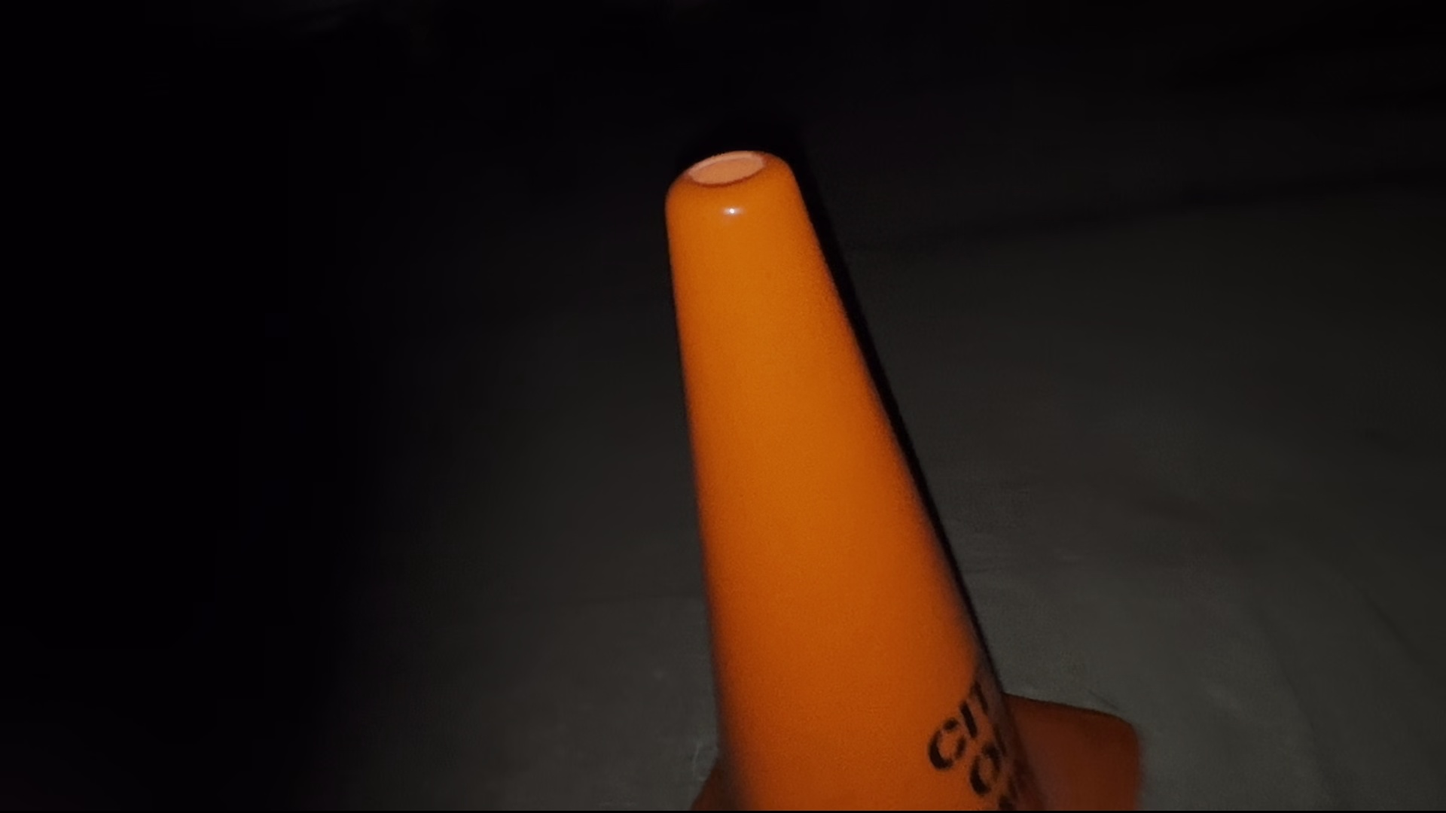traffic_cone: (662, 147, 1143, 810), (662, 147, 1047, 811)
